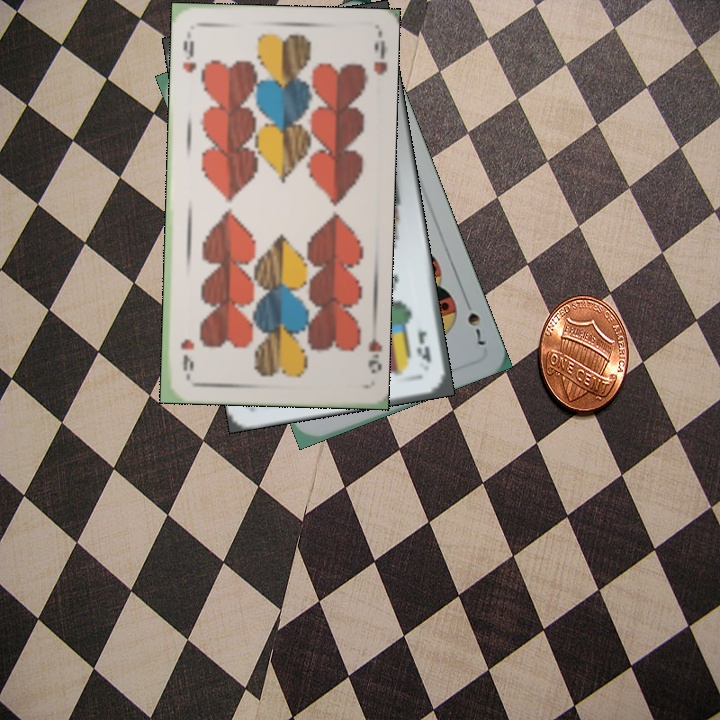EK: (413, 326, 433, 366)
H9: (179, 37, 199, 75), (364, 334, 382, 376)
S7: (460, 293, 488, 348)
